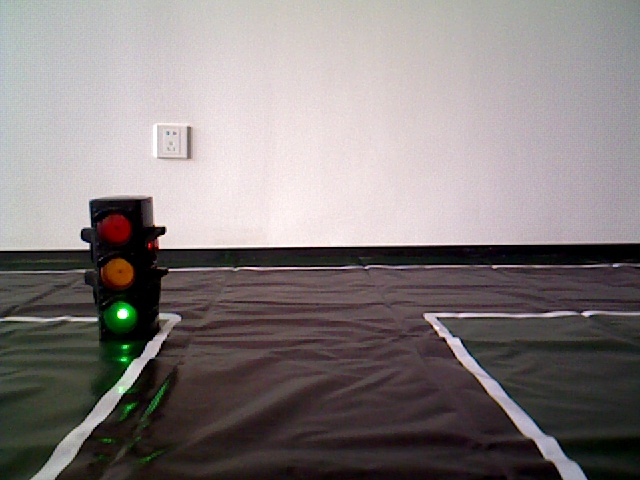green: (92, 205, 149, 333)
